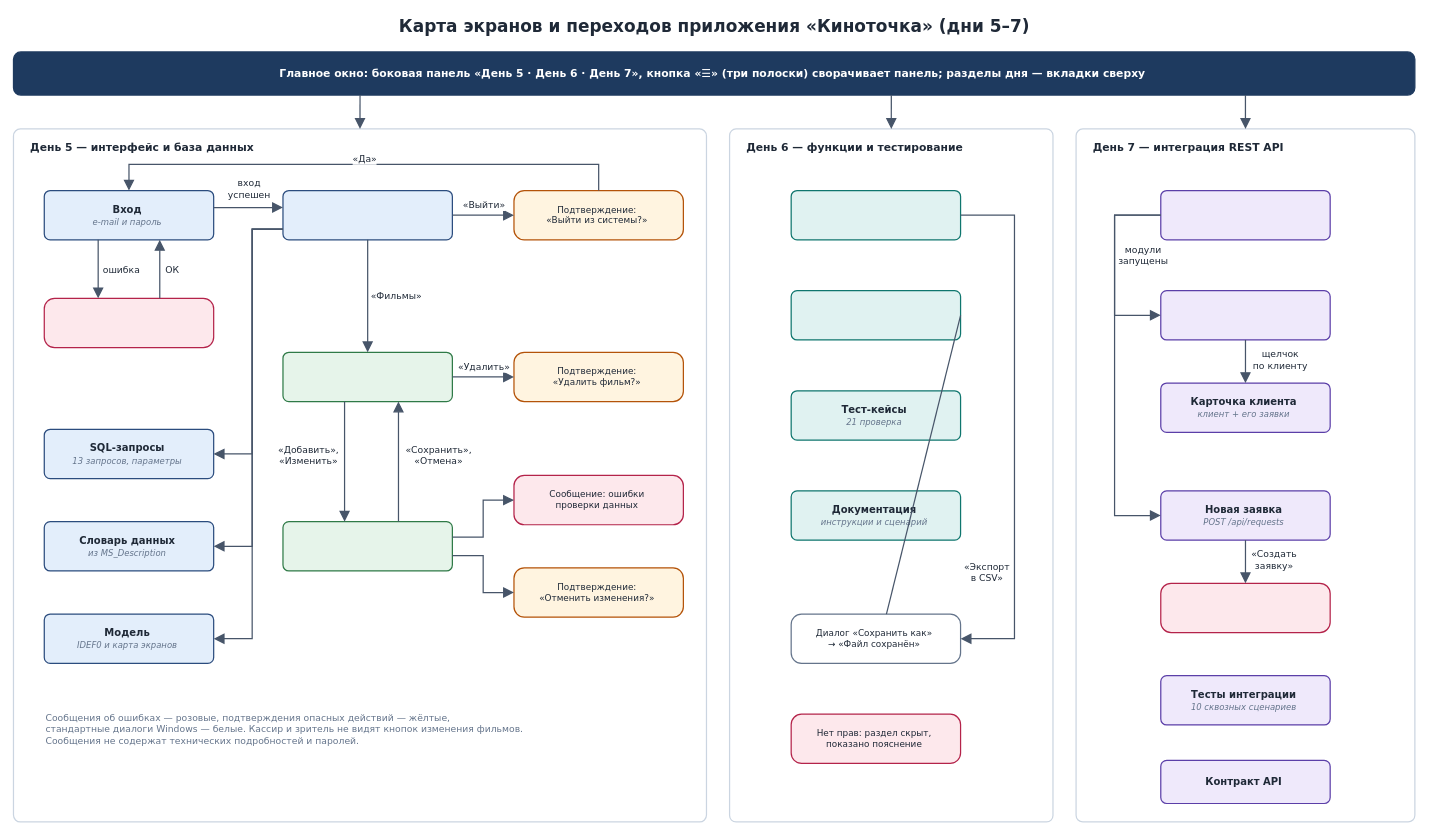
The diagram is 1429 pixels wide and 835 high, and some of its shapes have lost their labels. The shapes that lost their labels are listed below. From the top down, each one's box as (x1, y1, x2, y2) in pixels, then its label:
(282, 190, 453, 240): Главная сводка и афиша
(790, 190, 961, 240): Отчёты администратор, кассир
(1160, 190, 1330, 240): Модули запуск, остановка, проверка
(43, 297, 214, 348): Сообщение: «Неверный e-mail или пароль»
(790, 290, 961, 340): Журнал действий только администратор
(1160, 290, 1330, 340): Клиенты GET /api/clients
(282, 351, 453, 402): Фильмы (справочник) поиск, фильтр, сортировка
(282, 521, 453, 571): Карточка фильма добавление и изменение
(1160, 582, 1330, 633): Результат: 201 создана / 422 нет клиента / 503
